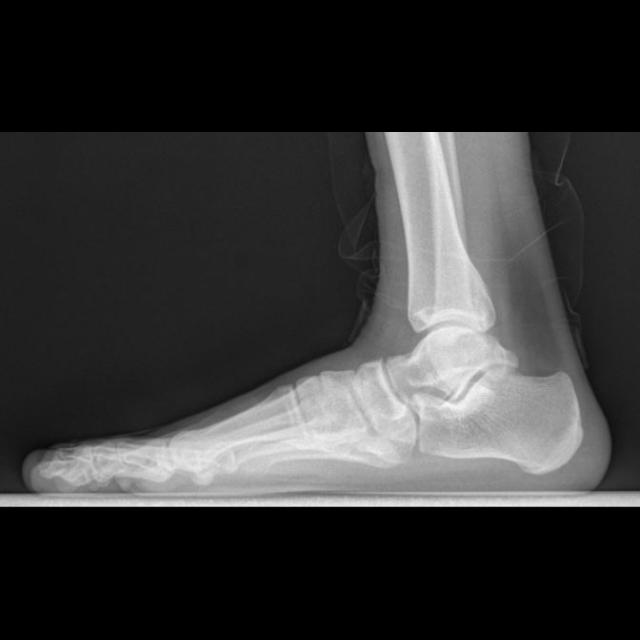a: (409, 366, 582, 473)
b: (351, 358, 410, 421)
c: (169, 382, 306, 488)
